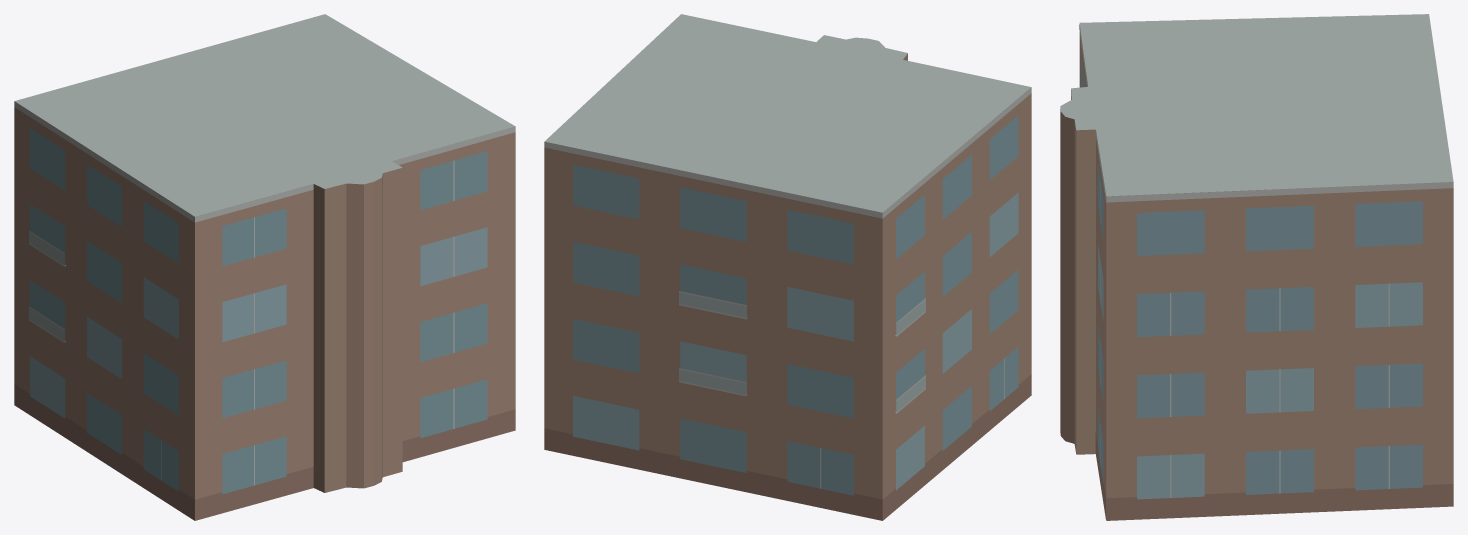
File: survey-upis-33044269.glb
3 renders of one model, left to right at view 1: azimuth 30°, elevation 25°; view 2: azimuth 150°, elevation 25°; view 3: azimuth 270°, elevation 25°, orthographic. The views are drawn at different scales.
Parts seen in each view (by area): view 1: survey-upis-33044269.tmp; view 2: survey-upis-33044269.tmp; view 3: survey-upis-33044269.tmp.
Boxes of the visible parts, <box> form: survey-upis-33044269.tmp: <box>14,14,515,520</box>; survey-upis-33044269.tmp: <box>544,14,1031,520</box>; survey-upis-33044269.tmp: <box>1060,14,1453,520</box>.
Bounding box in the file's own units: 15.43 × 12.8 × 14.07.
